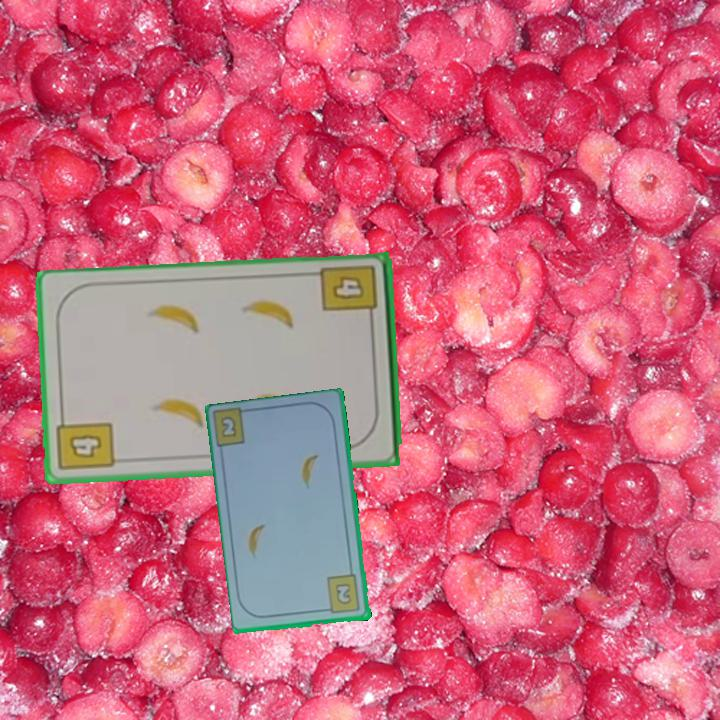2b: (321, 572, 363, 617), (217, 413, 240, 441)
4b: (318, 261, 381, 327), (54, 410, 117, 474)
